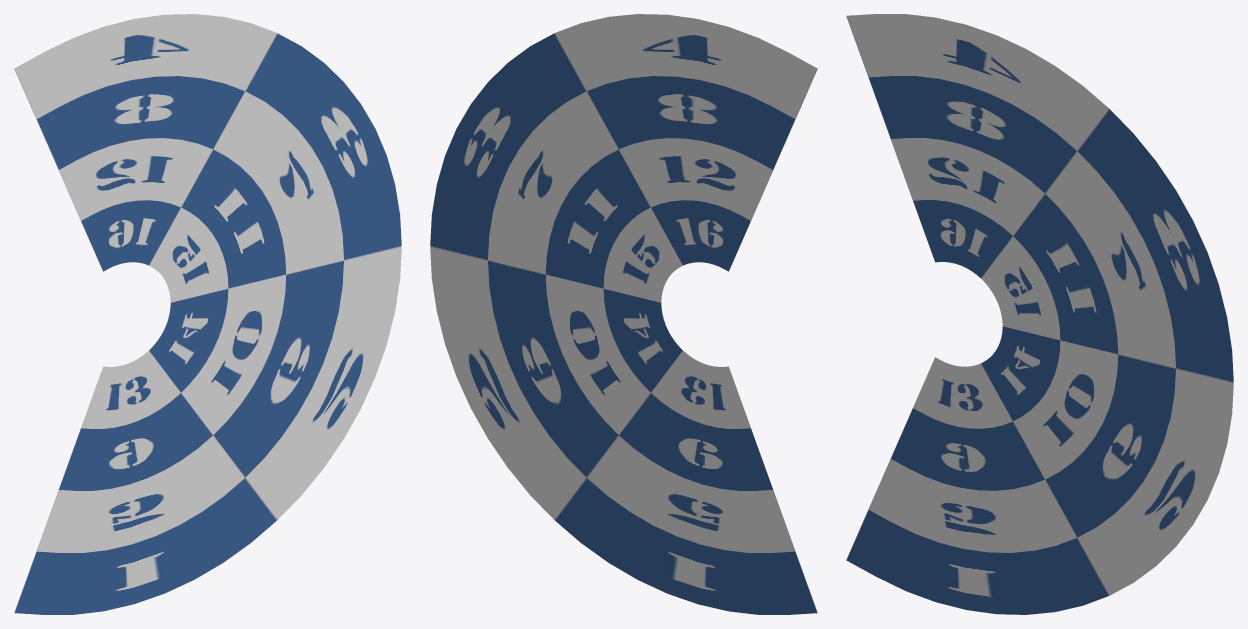
File: Slash8.fbx
3 renders of one model, left to right at view 1: azimuth 30°, elevation 25°; view 2: azimuth 150°, elevation 25°; view 3: azimuth 330°, elevation 25°, orthographic.
Parts seen in each view (by area): view 1: SM_e_cmn_Slash010; view 2: SM_e_cmn_Slash010; view 3: SM_e_cmn_Slash010.
Boxes of the visible parts, bbox=[...] form: SM_e_cmn_Slash010: bbox=[14, 14, 401, 614]; SM_e_cmn_Slash010: bbox=[430, 14, 817, 614]; SM_e_cmn_Slash010: bbox=[846, 14, 1233, 614].
Size of the model in its own units: 67.26 by 97.04 by 6.49e-06.
